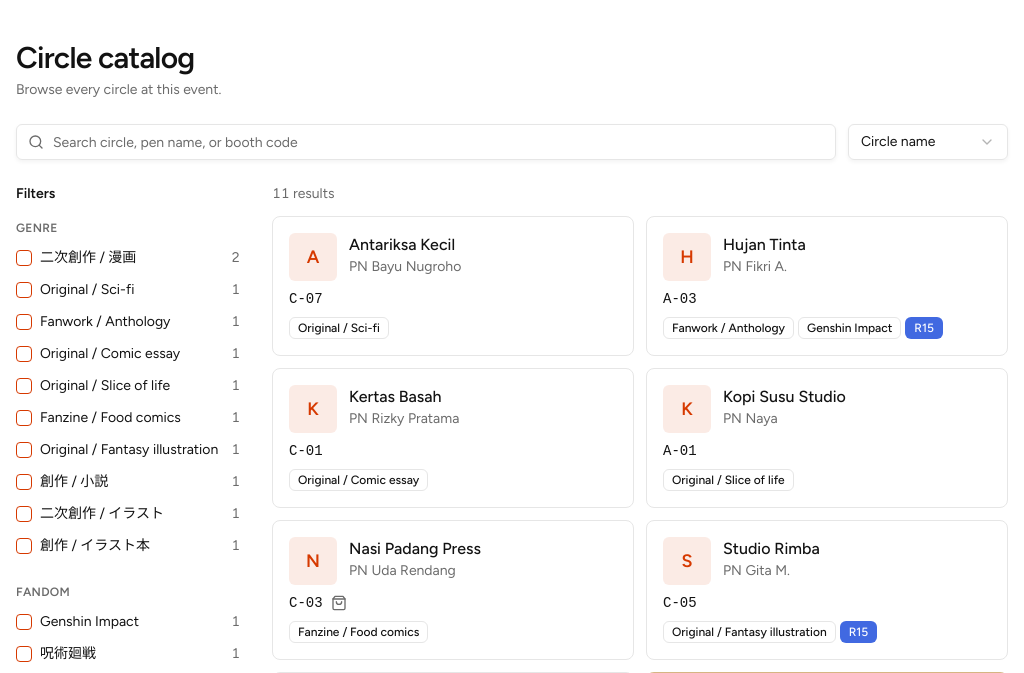
circle catalog › filters by search across name, pen name and booth code
Expected: the text "Kopi Susu Studio" is shown, [723,385,846,409]
Step 1. Type "Hujan" into the field → {"x": 426, "y": 142}, box [16,124,836,160]
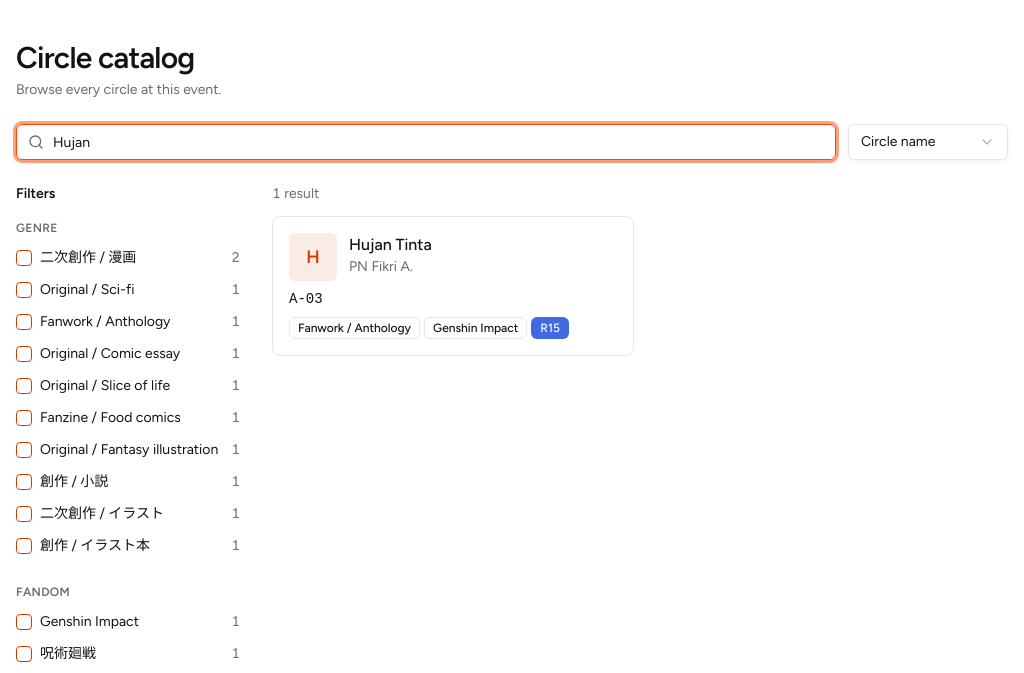
Expected: the text "Hujan Tinta" is shown, [349,233,432,257]
Expected: the button "Kopi Susu Studio" is gone
